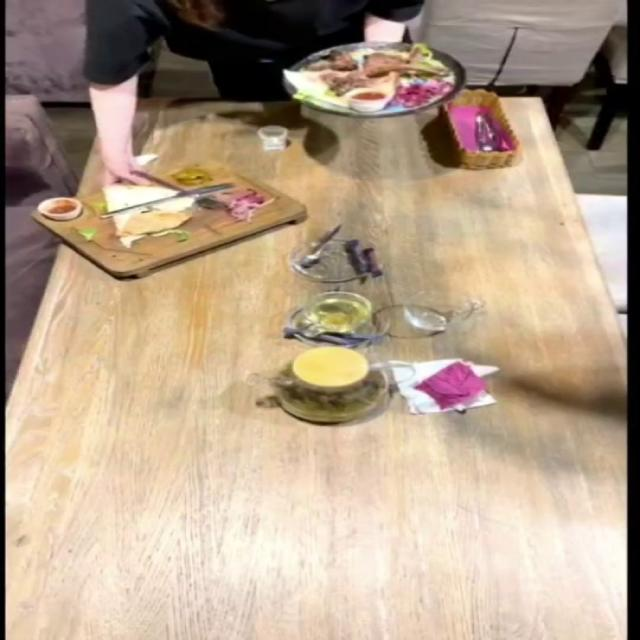meat: (288, 38, 501, 140)
tea: (214, 339, 444, 431)
